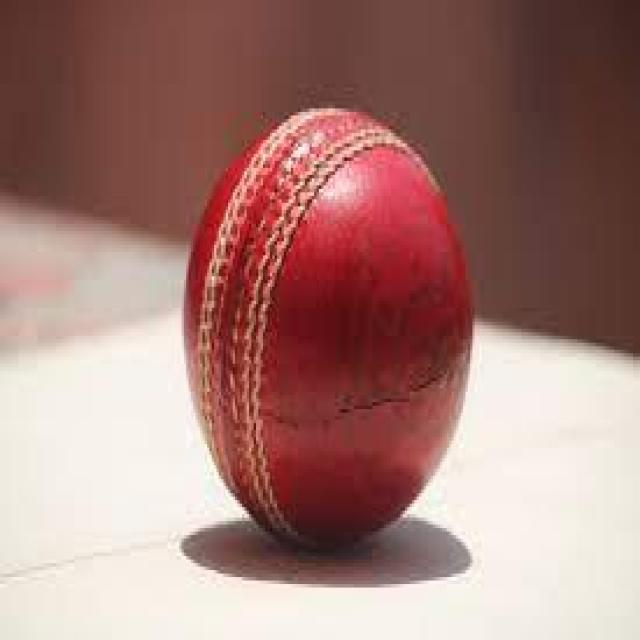ball: (184, 112, 477, 549)
